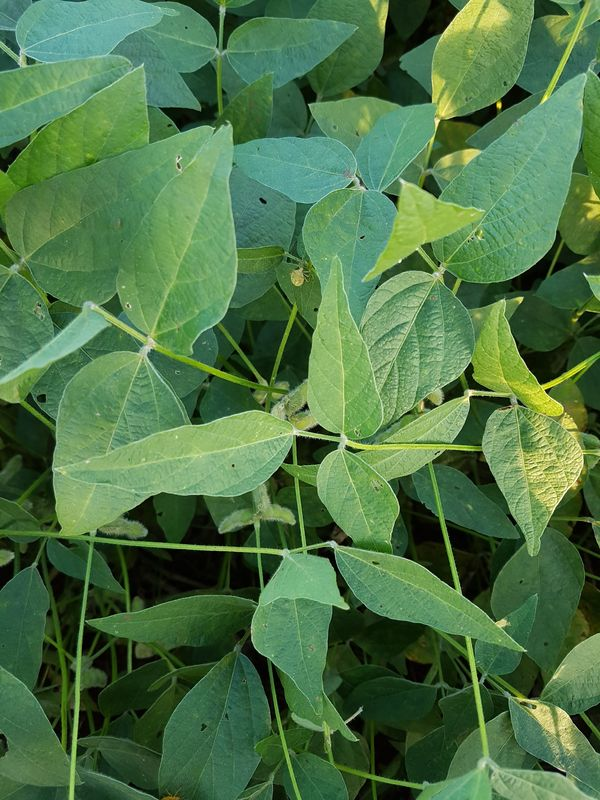Euschistus_heros_ninfa: (284, 257, 314, 291)
